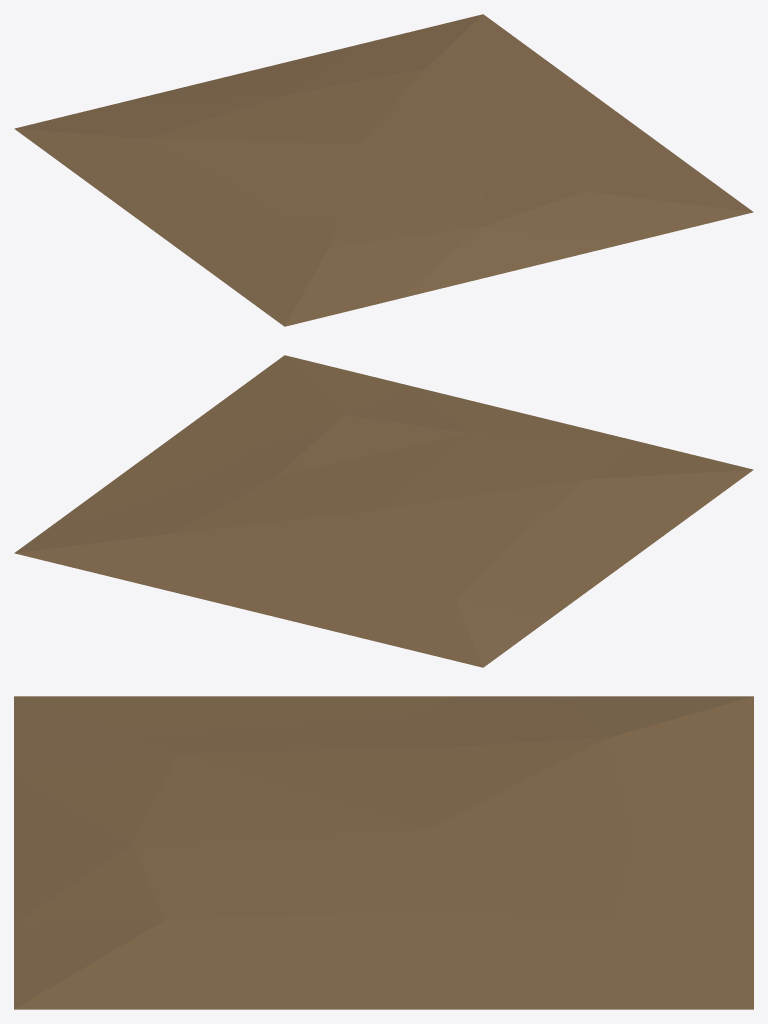
Rendered from SM_Env_Path_Dirt_03.glb.
The picture shows the model from 3 angles, top to bottom: view 1: azimuth 30°, elevation 25°; view 2: azimuth 150°, elevation 25°; view 3: azimuth 270°, elevation 25°; orthographic projection. The views are drawn at different scales.
Visible parts, largest first — view 1: SM_Env_Path_Dirt_03; view 2: SM_Env_Path_Dirt_03; view 3: SM_Env_Path_Dirt_03.
Boxes of the visible parts, x1=… form: SM_Env_Path_Dirt_03: x1=14, y1=14, x2=753, y2=326; SM_Env_Path_Dirt_03: x1=14, y1=355, x2=753, y2=667; SM_Env_Path_Dirt_03: x1=14, y1=696, x2=753, y2=1009.
Size of the model in its own units: 3 by 0.0938 by 3.
Materials: 1 (1 with a texture image).
